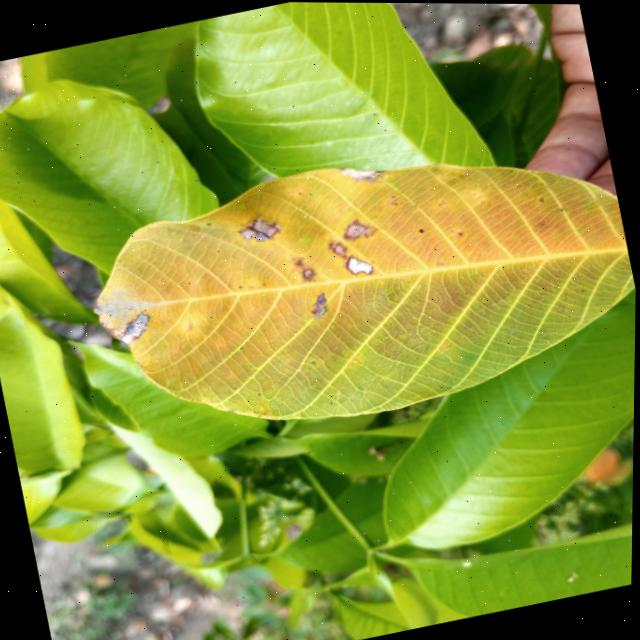Leaf-Blight: (347, 254, 373, 276)
